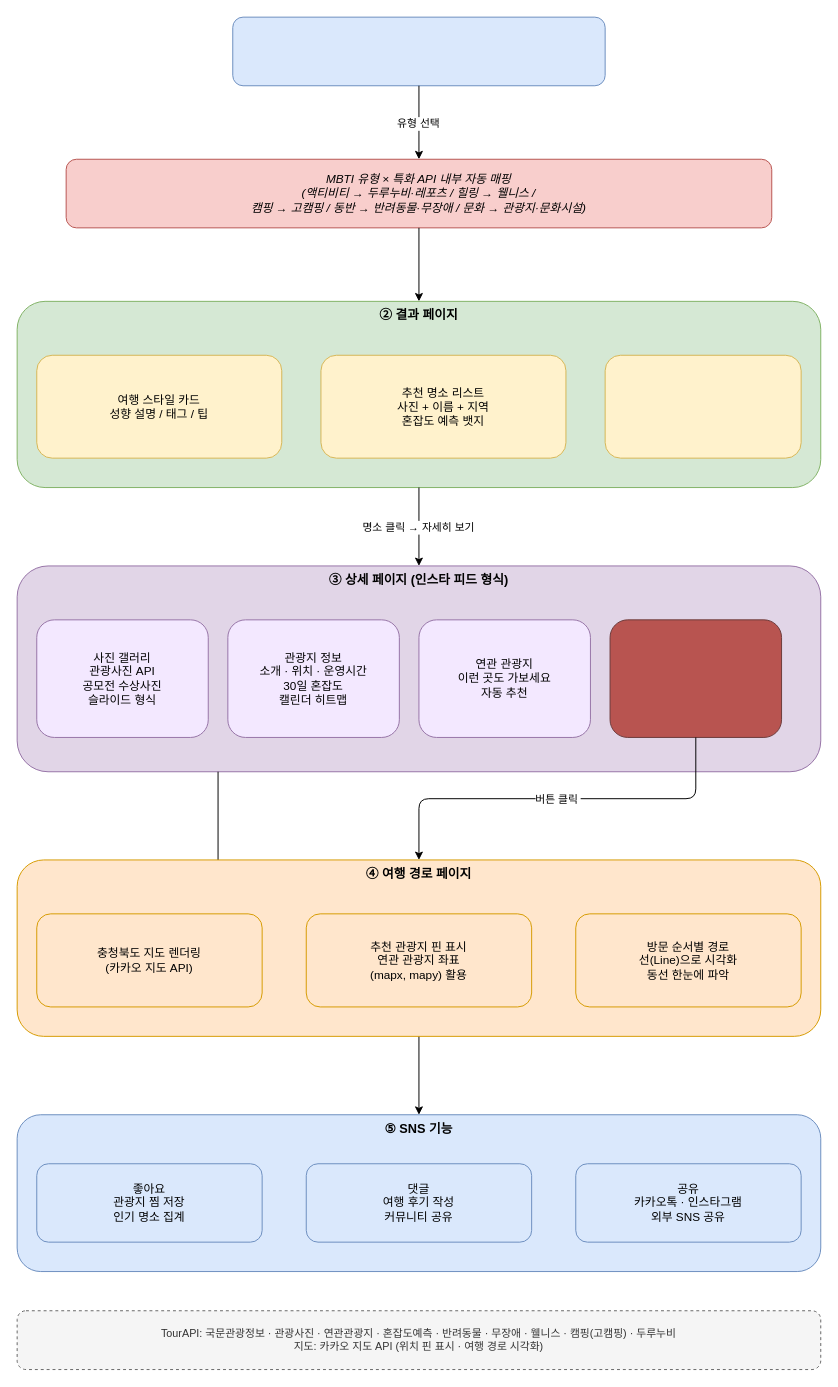
This 838x1387 diagram has some shape labels left out. The centre of each missing label's shape, as x and y in pixels:
① 메인 페이지 MBTI 16개 유형 선택 버튼 그리드 표시: pixel 418 51
여행 경로 정하기 버튼: pixel 695 678
충청북도 지도 (카카오 지도 API) 추천 명소 위치 핀 표시: pixel 702 406
